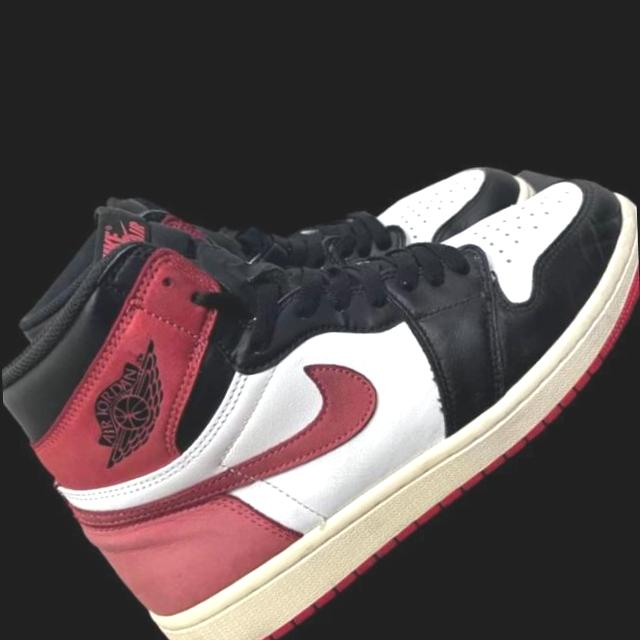nike_original_jordan: (0, 0, 640, 640), (0, 0, 548, 502)
